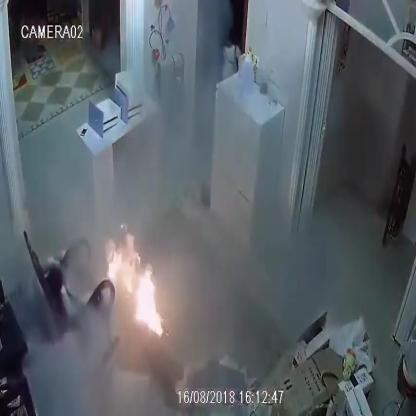fire: (106, 225, 164, 336)
